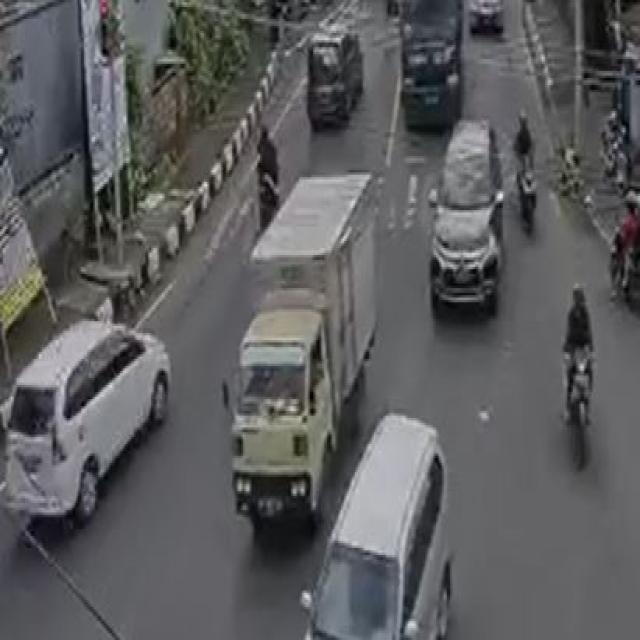car: (12, 307, 176, 533), (433, 121, 508, 315), (299, 22, 382, 133)
motorbike: (537, 286, 614, 466), (516, 113, 547, 233), (256, 133, 282, 221)
truck: (231, 172, 388, 557)
